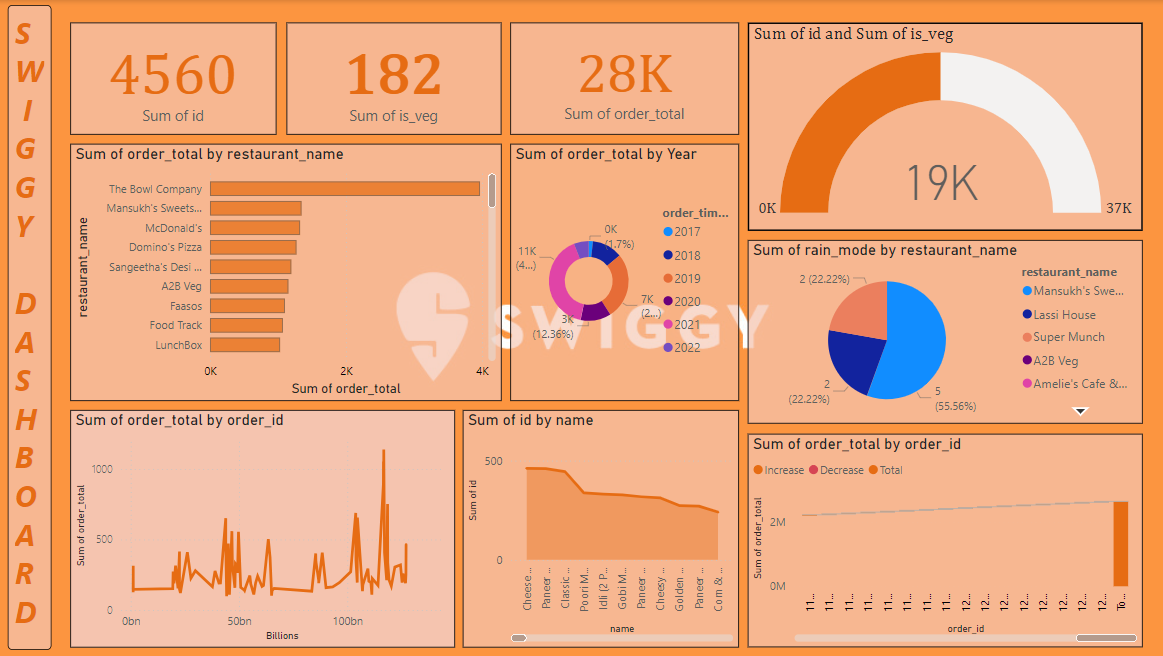

This screenshot's page, from the dashboard's own definition file:
{"tool":"powerbi","page":{"name":"Page 1","canvas":[1280,720],"ordinal":0},"visuals":[{"type":"textbox","box":[9.6,5.5,48,708.1],"z":0},{"type":"clusteredBarChart","fields":{"Y":["Sum(orders.order_total)"],"Category":["orders.restaurant_name"]},"box":[78.2,157.8,473.4,282.7],"z":1000},{"type":"card","fields":{"Values":["Sum(orders.id)"]},"box":[78.2,24.7,226.4,123.5],"z":2000},{"type":"card","fields":{"Values":["Sum(items.is_veg)"]},"box":[315.6,24.7,236,123.5],"z":3000},{"type":"lineChart","fields":{"Y":["Sum(orders.order_total)"],"Category":["orders.order_id"]},"box":[78.2,450.1,422.6,260.7],"z":4000},{"type":"gauge","fields":{"Y":["Sum(items.id)"]},"box":[822,24.7,433.6,229.2],"z":5000},{"type":"pieChart","fields":{"Category":["orders.restaurant_name"],"Y":["Sum(orders.rain_mode)"]},"box":[822,263.5,433.6,201.7],"z":6000},{"type":"card","fields":{"Values":["Sum(orders.order_total)"]},"box":[561.2,24.7,251.1,123.5],"z":7000},{"type":"donutChart","fields":{"Category":["orders.order_time.Variation.Date Hierarchy.Year","orders.order_time.Variation.Date Hierarchy.Quarter","orders.order_time.Variation.Date Hierarchy.Month","orders.order_time.Variation.Date Hierarchy.Day"],"Y":["Sum(orders.order_total)"]},"box":[561.2,157.8,251.1,282.7],"z":8000},{"type":"stackedAreaChart","fields":{"Y":["Sum(items.id)"],"Category":["items.name"]},"box":[509.1,450.1,303.3,260.7],"z":9000},{"type":"waterfallChart","fields":{"Category":["items.order_id"],"Y":["Sum(orders.order_total)"]},"box":[822,476.2,433.6,234.6],"z":10000}]}

Visuals, with their boxes in screenshot pixels (x1, y1, x2, y2), scaled from the page's 1280x720 canvas onto the 1163x656 screenshot:
textbox: 9,5,52,650
clusteredBarChart - Sum(orders.order_total) x orders.restaurant_name: 71,144,501,401
card - Sum(orders.id): 71,23,277,135
card - Sum(items.is_veg): 287,23,501,135
lineChart - Sum(orders.order_total) x orders.order_id: 71,410,455,648
gauge - Sum(items.id): 747,23,1141,231
pieChart - orders.restaurant_name x Sum(orders.rain_mode): 747,240,1141,424
card - Sum(orders.order_total): 510,23,738,135
donutChart - orders.order_time.Variation.Date Hierarchy.Year x orders.order_time.Variation.Date Hierarchy.Quarter: 510,144,738,401
stackedAreaChart - Sum(items.id) x items.name: 463,410,738,648
waterfallChart - items.order_id x Sum(orders.order_total): 747,434,1141,648
